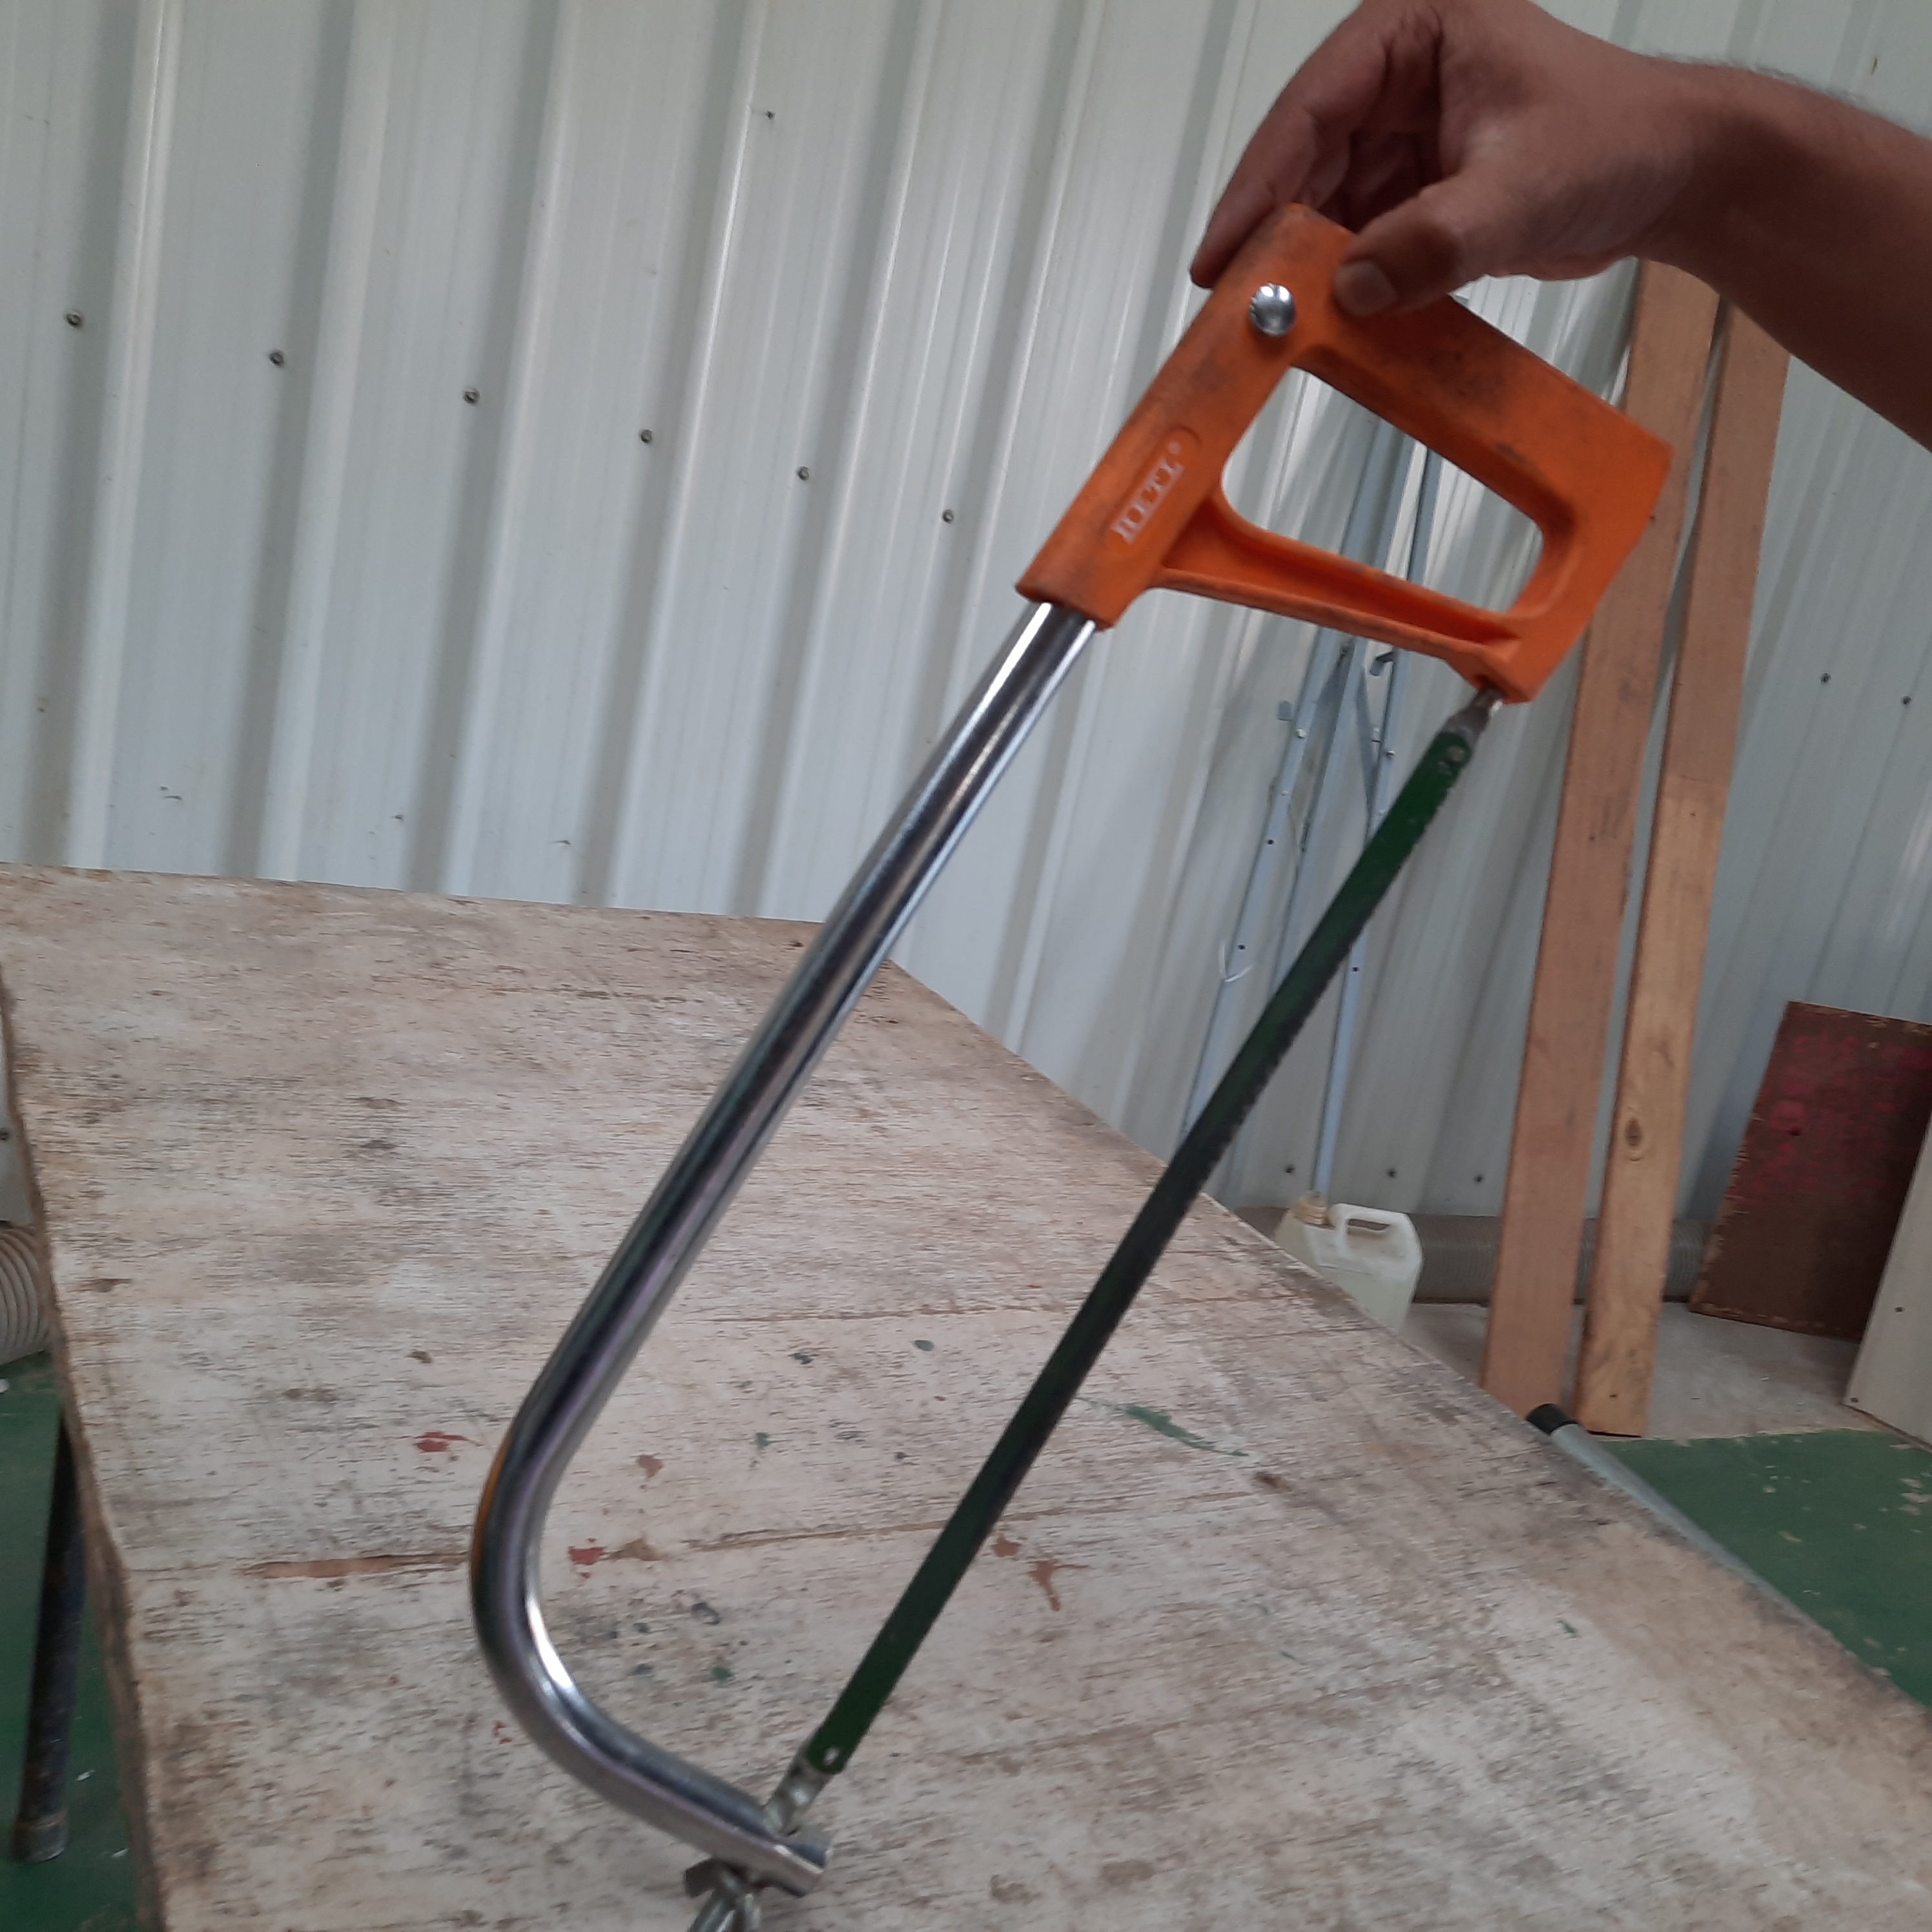Hexaframe: (410, 179, 1695, 1932)
